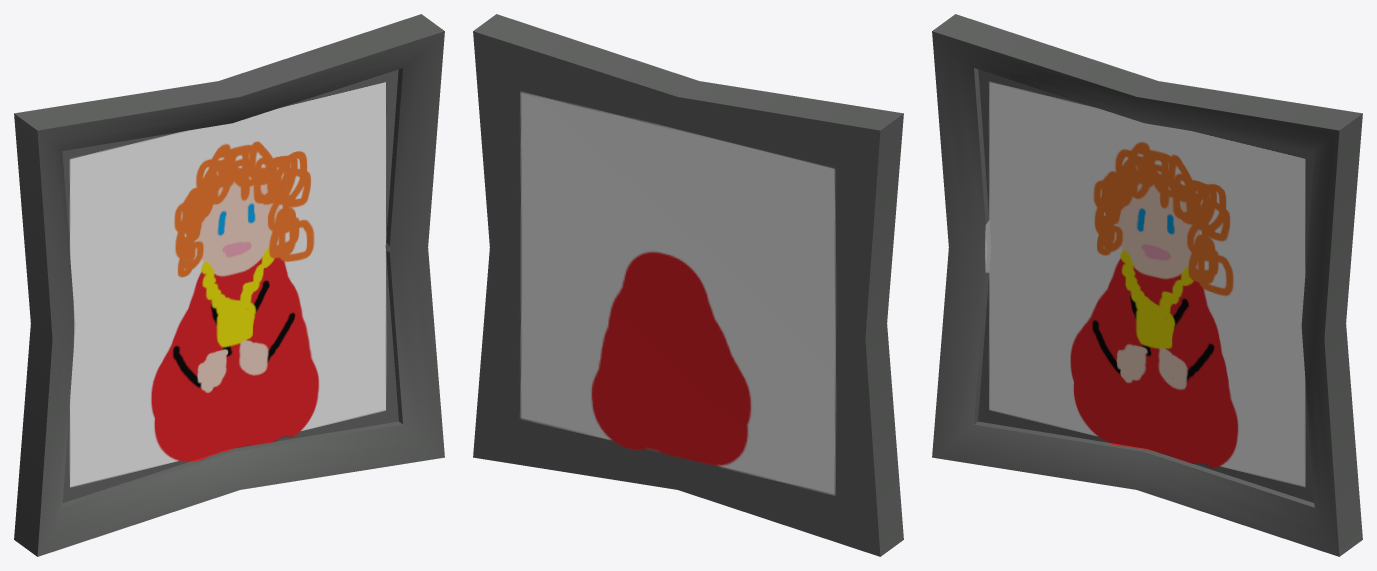
The model's file is painting_placeholder.fbx.
The picture shows the model from 3 angles, left to right: view 1: azimuth 30°, elevation 25°; view 2: azimuth 150°, elevation 25°; view 3: azimuth 330°, elevation 25°; orthographic projection.
Visible parts, largest first — view 1: node_id4; view 2: node_id4; view 3: node_id4.
Boxes of the visible parts, x1=… form: node_id4: x1=14, y1=14, x2=444, y2=556; node_id4: x1=473, y1=14, x2=903, y2=556; node_id4: x1=932, y1=14, x2=1362, y2=556.
Size of the model in its own units: 0.512 by 0.512 by 0.0512.
1 material, 1 textured.
